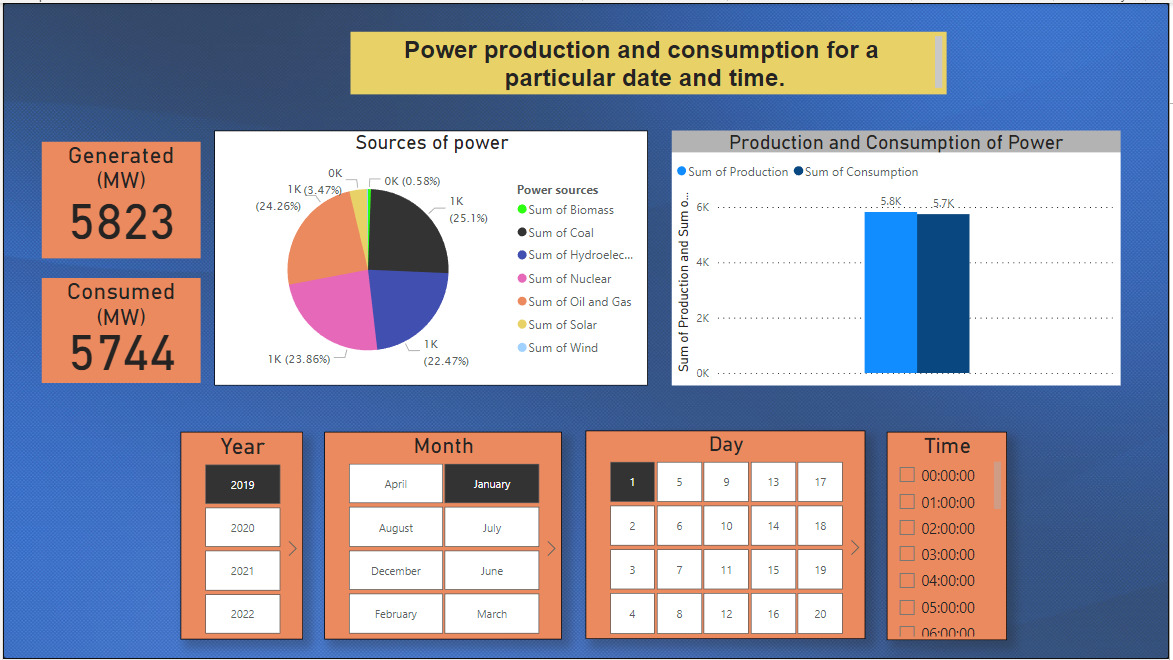

The dashboard page shown, as its layout file describes it:
{"tool":"powerbi","page":{"name":"Page 1","canvas":[1280,720],"ordinal":0},"visuals":[{"type":"clusteredColumnChart","title":"Production and Consumption of Power","fields":{"Y":["Sum(electricityConsumptionAndProductioction.Production)","Sum(electricityConsumptionAndProductioction.Consumption)"]},"box":[734.1,140,492.6,279.9],"z":0},{"type":"pieChart","title":"Sources of power","fields":{"Y":["Sum(electricityConsumptionAndProductioction.Biomass)","Sum(electricityConsumptionAndProductioction.Coal)","Sum(electricityConsumptionAndProductioction.Hydroelectric)","Sum(electricityConsumptionAndProductioction.Nuclear)","Sum(electricityConsumptionAndProductioction.Oil and Gas)","Sum(electricityConsumptionAndProductioction.Solar)","Sum(electricityConsumptionAndProductioction.Wind)"]},"box":[231.9,140,476.2,279.9],"z":1000},{"type":"slicer","title":"Day","fields":{"Values":["electricityConsumptionAndProductioction.Day"]},"box":[639.5,469.3,307.4,229.2],"z":2000},{"type":"slicer","title":"Year","fields":{"Values":["electricityConsumptionAndProductioction.Year"]},"box":[194.9,470.7,134.5,227.8],"z":3000},{"type":"slicer","title":"Time","fields":{"Values":["electricityConsumptionAndProductioction.Time"]},"box":[970.2,470.7,131.7,229.2],"z":4000},{"type":"slicer","title":"Month","fields":{"Values":["electricityConsumptionAndProductioction.Month"]},"box":[352.7,470.7,260.7,227.8],"z":5000},{"type":"card","title":"Generated (MW)","fields":{"Values":["Sum(electricityConsumptionAndProductioction.Production)"]},"box":[42.5,152.3,174.3,127.6],"z":6000},{"type":"card","title":"Consumed (MW)","fields":{"Values":["Sum(electricityConsumptionAndProductioction.Consumption)"]},"box":[42.5,301.9,174.3,115.3],"z":7000},{"type":"textbox","box":[381.5,31.6,654.5,68.6],"z":7001}]}

Visuals, with their boxes in screenshot pixels (x1, y1, x2, y2), scaled from the page's 1280x720 canvas onto the 1173x660 screenshot:
"Production and Consumption of Power" clusteredColumnChart: (673, 128, 1124, 385)
"Sources of power" pieChart: (213, 128, 649, 385)
"Day" slicer: (586, 430, 868, 640)
"Year" slicer: (179, 431, 302, 640)
"Time" slicer: (889, 431, 1010, 642)
"Month" slicer: (323, 431, 562, 640)
"Generated (MW)" card: (39, 140, 199, 257)
"Consumed (MW)" card: (39, 277, 199, 382)
textbox: (350, 29, 949, 92)
